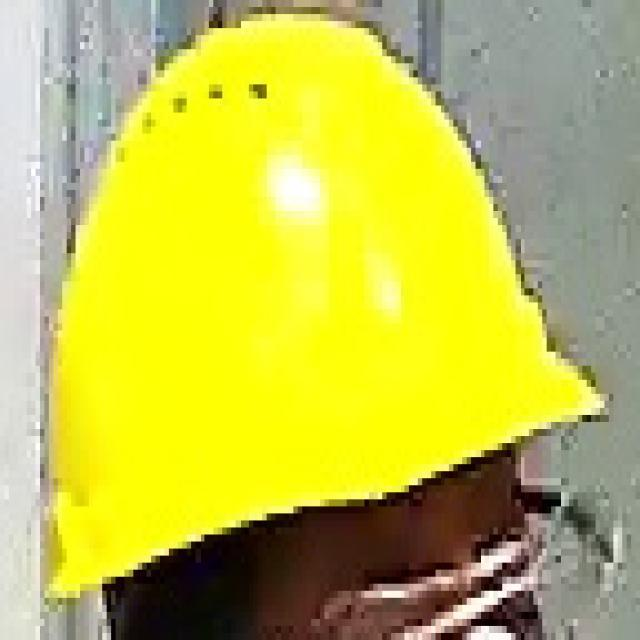yellow helmet: (29, 19, 619, 614)
